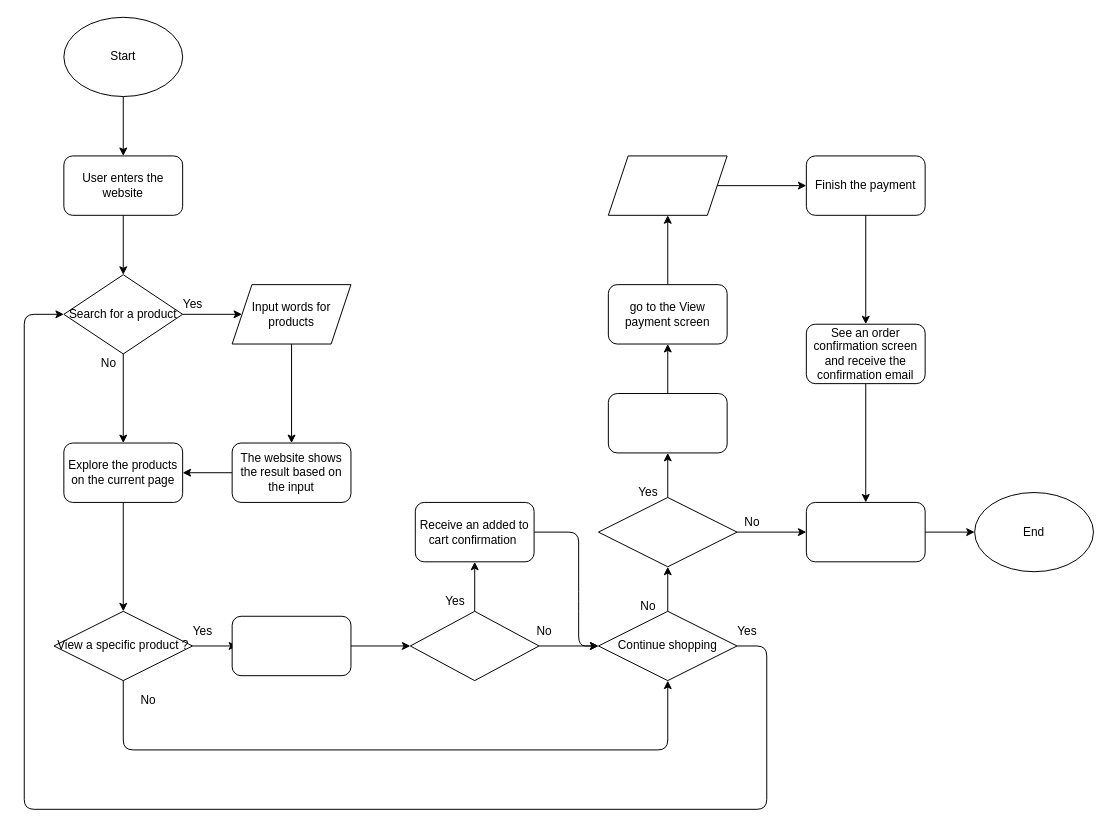
Image size: 1111x835. Some labels were removed from this diagram. Here are the shapes that lost their labels. From the top down, the box of each, then its label:
(607, 155, 727, 215): Give input of their payment information
(607, 393, 727, 453): Reach the View Cart screen
(597, 496, 737, 567): Check out?
(805, 501, 925, 562): Leave the website
(231, 615, 351, 676): The product's webpage opens
(409, 610, 539, 681): Add it to their cart?
